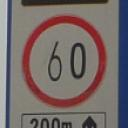speed_limit_60: (20, 12, 109, 110)
